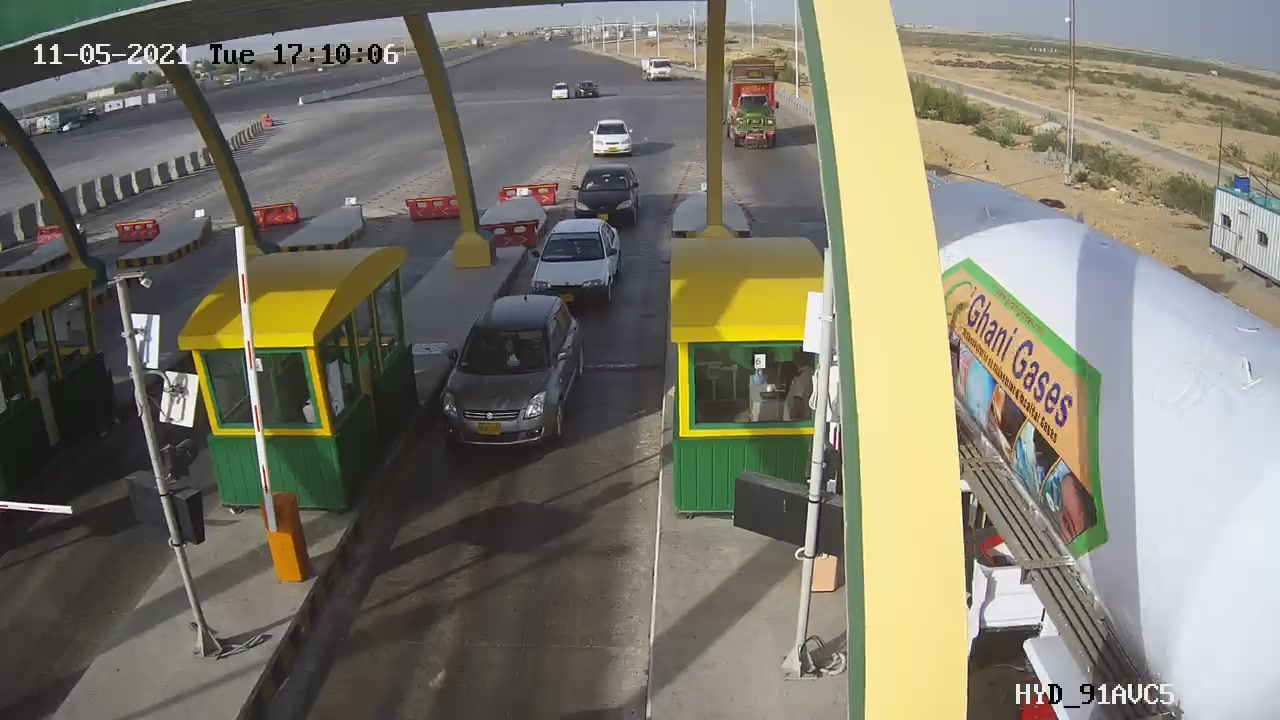F1: (422, 278, 596, 461), (507, 208, 640, 324)
